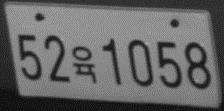0: (127, 38, 153, 87)
1: (102, 36, 122, 86)
2: (44, 34, 70, 82)
5: (157, 40, 182, 89), (17, 33, 42, 80)
8: (184, 41, 211, 89)
육: (71, 45, 97, 85)
